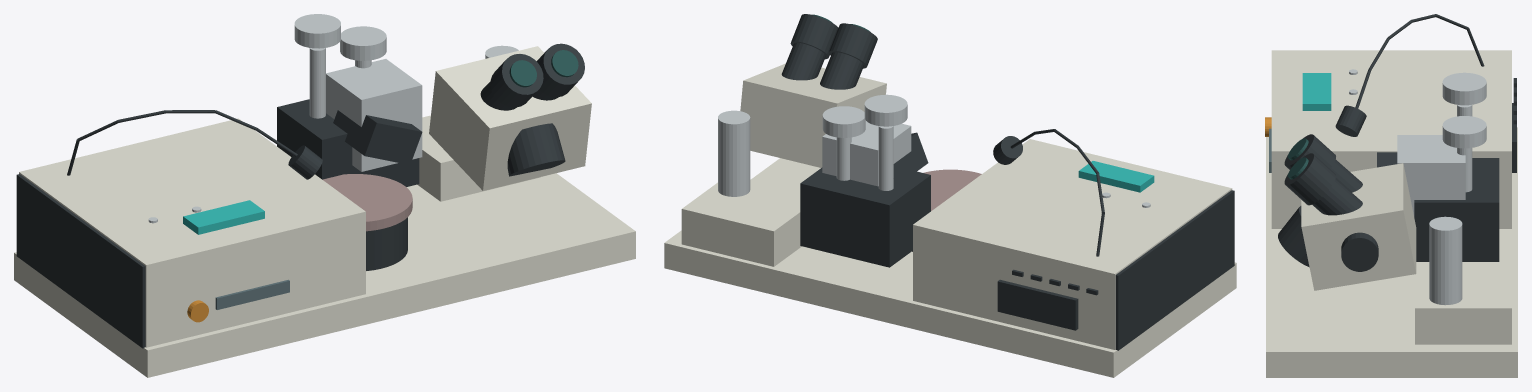
File: bv10d-static.glb
3 views of the same model, side by side, from view 1: azimuth 30°, elevation 25°; view 2: azimuth 150°, elevation 25°; view 3: azimuth 270°, elevation 25° (orthographic). The views are drawn at different scales.
Parts seen in each view (by area): view 1: left_desktop_enclosure, base_footprint, stereo_scope_shell, left_black_side, fixed_holder_silhouette, manipulator_mount, unpowered_disk, tilt_joint_silhouette, stereo_scope_base, fixed_scope_nose, fixed_pedestal, facet_selector_overlay (+9 smaller); view 2: left_desktop_enclosure, base_footprint, manipulator_mount, left_black_side, stereo_scope_shell, stereo_scope_base, fixed_holder_silhouette, stereo_scope_post, rear_blank_plate, facet_selector_overlay, stereo_rubber_eyecup, stereo_rubber_eyecup.001 (+9 smaller); view 3: left_desktop_enclosure, base_footprint, stereo_scope_shell, stereo_scope_base, manipulator_mount, fixed_holder_silhouette, stereo_scope_post, stereo_rubber_eyecup.001, upper_fixed_knob, second_fixed_knob, fixed_scope_knob, facet_selector_overlay (+10 smaller).
Boxes of the visible parts, x1,y1,x2,y2 form: left_desktop_enclosure: (19,118,365,347); base_footprint: (14,173,635,377); stereo_scope_shell: (429,46,591,190); left_black_side: (16,174,145,348); fixed_holder_silhouette: (326,59,422,171); manipulator_mount: (277,99,419,186); unpowered_disk: (322,174,412,231); tilt_joint_silhouette: (333,110,422,164); stereo_scope_base: (417,115,540,201); fixed_scope_nose: (507,123,565,176); fixed_pedestal: (366,217,407,270); facet_selector_overlay: (183,200,264,234); left_desktop_enclosure: (913,139,1232,349); base_footprint: (664,158,1236,377); manipulator_mount: (800,167,930,267); left_black_side: (1115,190,1234,350); stereo_scope_shell: (740,63,886,167); stereo_scope_base: (681,179,801,266); fixed_holder_silhouette: (822,120,911,186); stereo_scope_post: (718,110,750,196); rear_blank_plate: (997,279,1078,330); facet_selector_overlay: (1078,161,1154,192); stereo_rubber_eyecup: (829,23,877,68); stereo_rubber_eyecup.001: (790,14,838,59); left_desktop_enclosure: (1271,50,1511,228); base_footprint: (1266,127,1517,377); stereo_scope_shell: (1301,163,1416,290); stereo_scope_base: (1415,262,1511,344); manipulator_mount: (1414,158,1499,261); fixed_holder_silhouette: (1397,135,1465,216); stereo_scope_post: (1429,216,1462,305); stereo_rubber_eyecup.001: (1284,153,1335,205); upper_fixed_knob: (1442,72,1486,105); second_fixed_knob: (1442,116,1486,148); fixed_scope_knob: (1341,232,1378,271); facet_selector_overlay: (1302,73,1331,110).
Size of the model in its own units: 0.4838 by 0.2032 by 0.2293.
